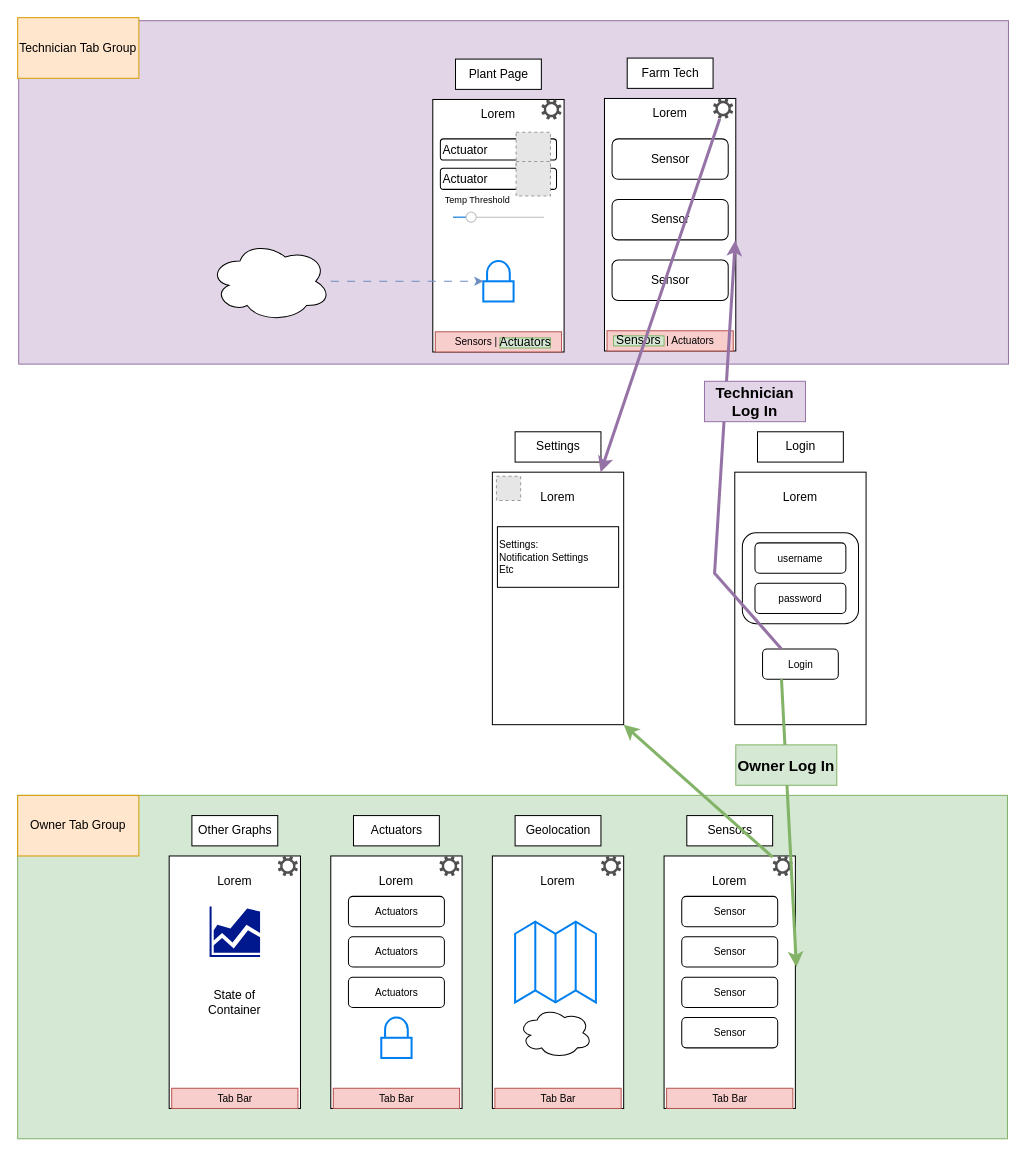
The diagram is 1026 pixels wide and 1156 high, and some of its shapes have lost their labels. Grey dashed boxes stand in for pictures. Here are the shapes that lost their labels. From the top down, the centre of each, then its label:
(x=270, y=281): Lock / Unlock
(x=555, y=1032): Map of Location
